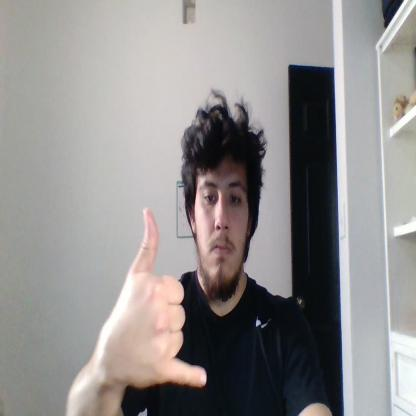Y: (117, 207, 207, 388)
